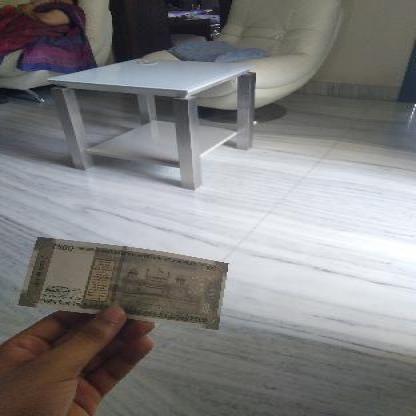New500Back: (26, 230, 222, 326)
